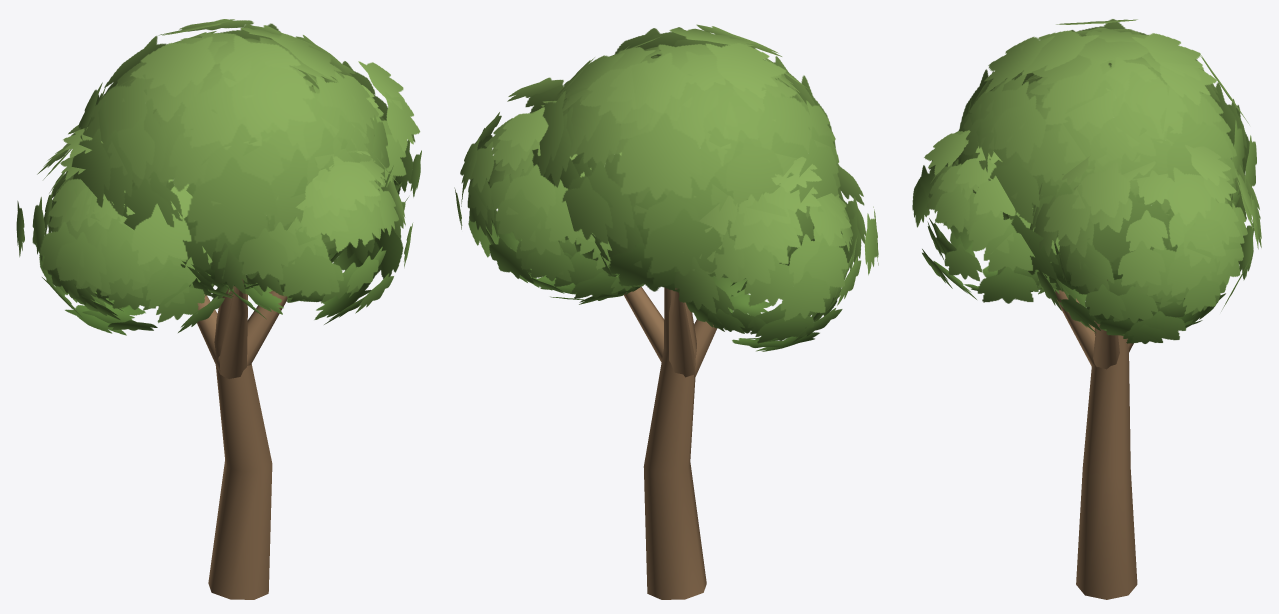
File: tree-41.glb
The picture shows the model from 3 angles, left to right: view 1: azimuth 30°, elevation 25°; view 2: azimuth 150°, elevation 25°; view 3: azimuth 270°, elevation 25°; orthographic projection. The views are drawn at different scales.
Parts seen in each view (by area): view 1: round leafy tree; view 2: round leafy tree; view 3: round leafy tree.
Part boxes in pixels (bbox=[...]): round leafy tree: bbox=[16, 19, 421, 599]; round leafy tree: bbox=[454, 24, 878, 599]; round leafy tree: bbox=[912, 19, 1261, 599].
Size of the model in its own units: 4.57 by 6.34 by 3.7.
1 material, 1 textured.
